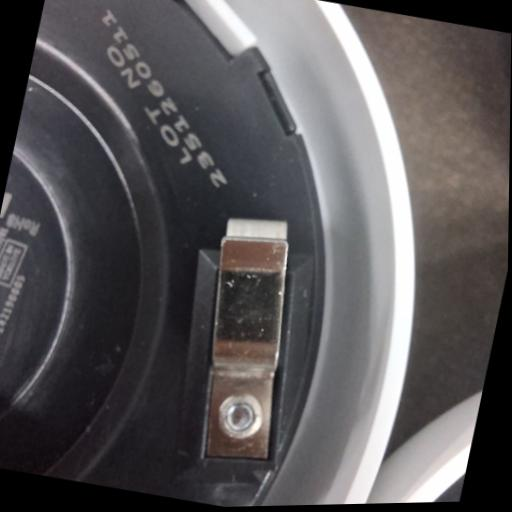yayli: (173, 208, 319, 470)
